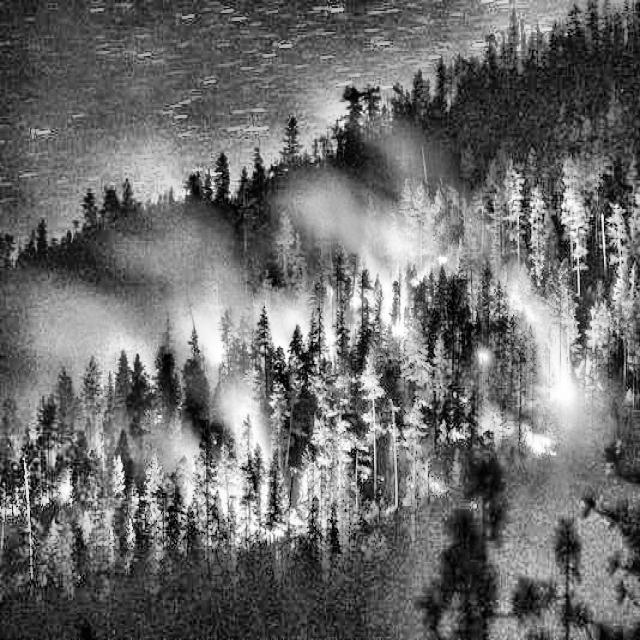fire: (71, 224, 607, 529)
